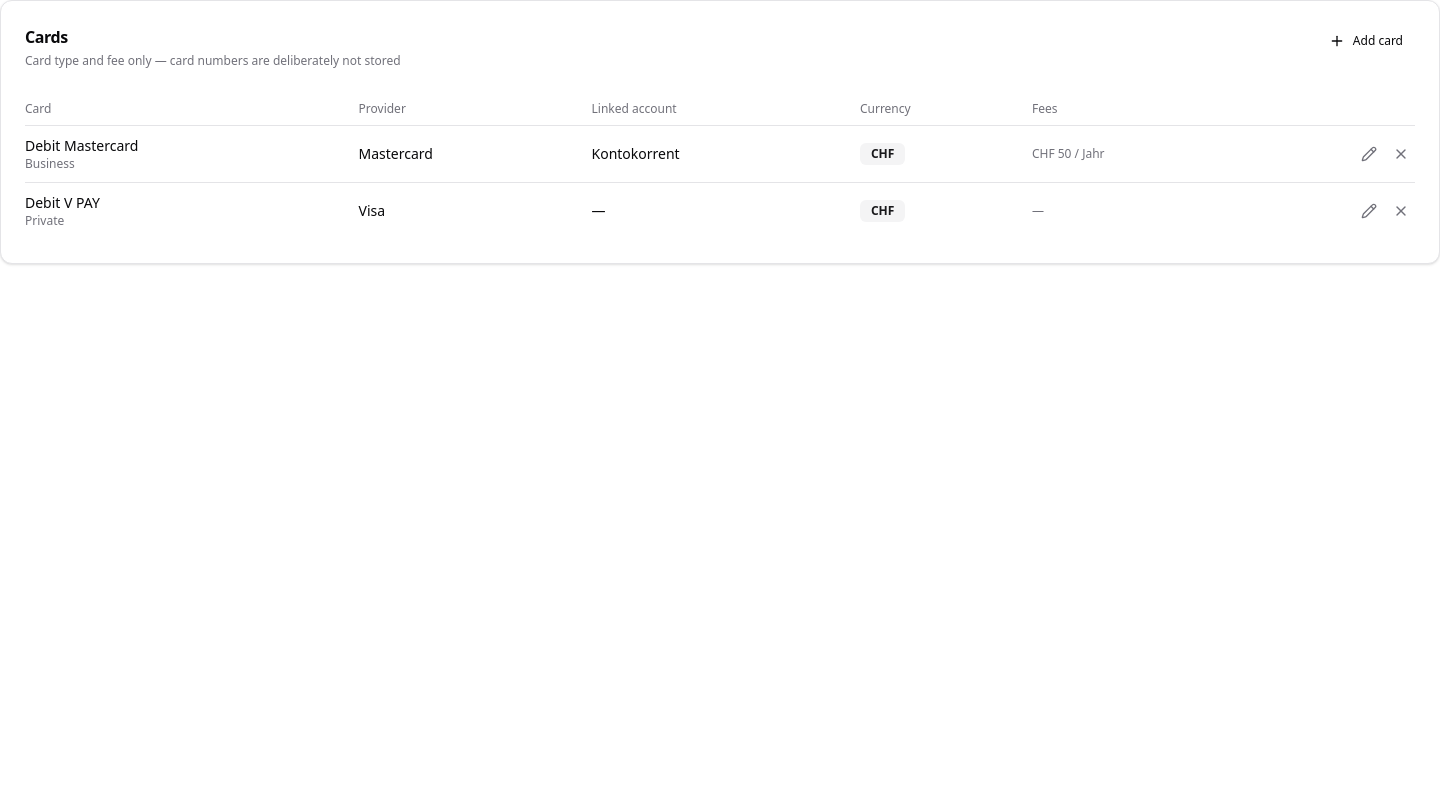
PaymentCardsCard › opens the create dialog from the header button
Click the button "Add card" at (1366, 41), box [1317, 25, 1415, 57]
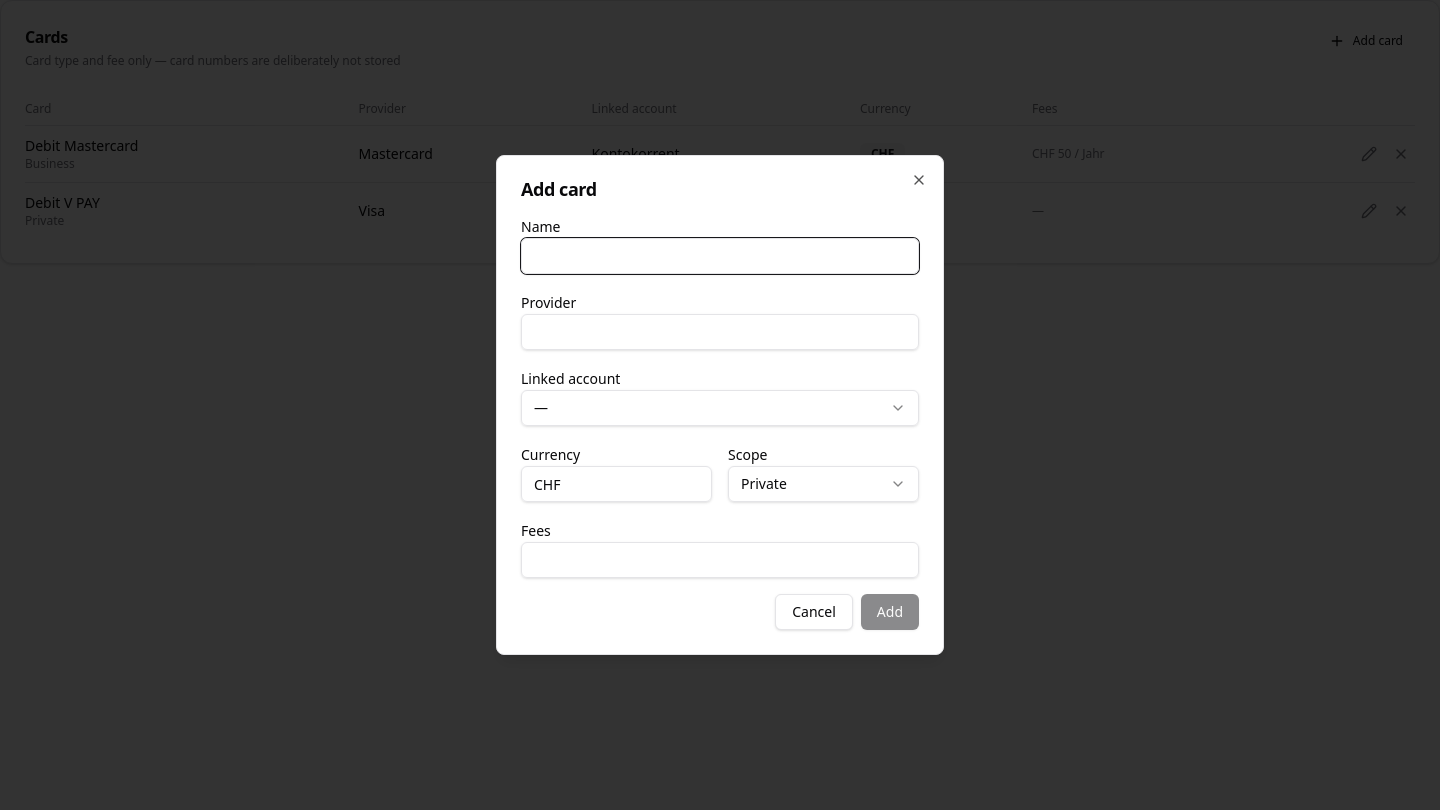
Result: the heading "Add card" is shown at [521, 177, 597, 201]
